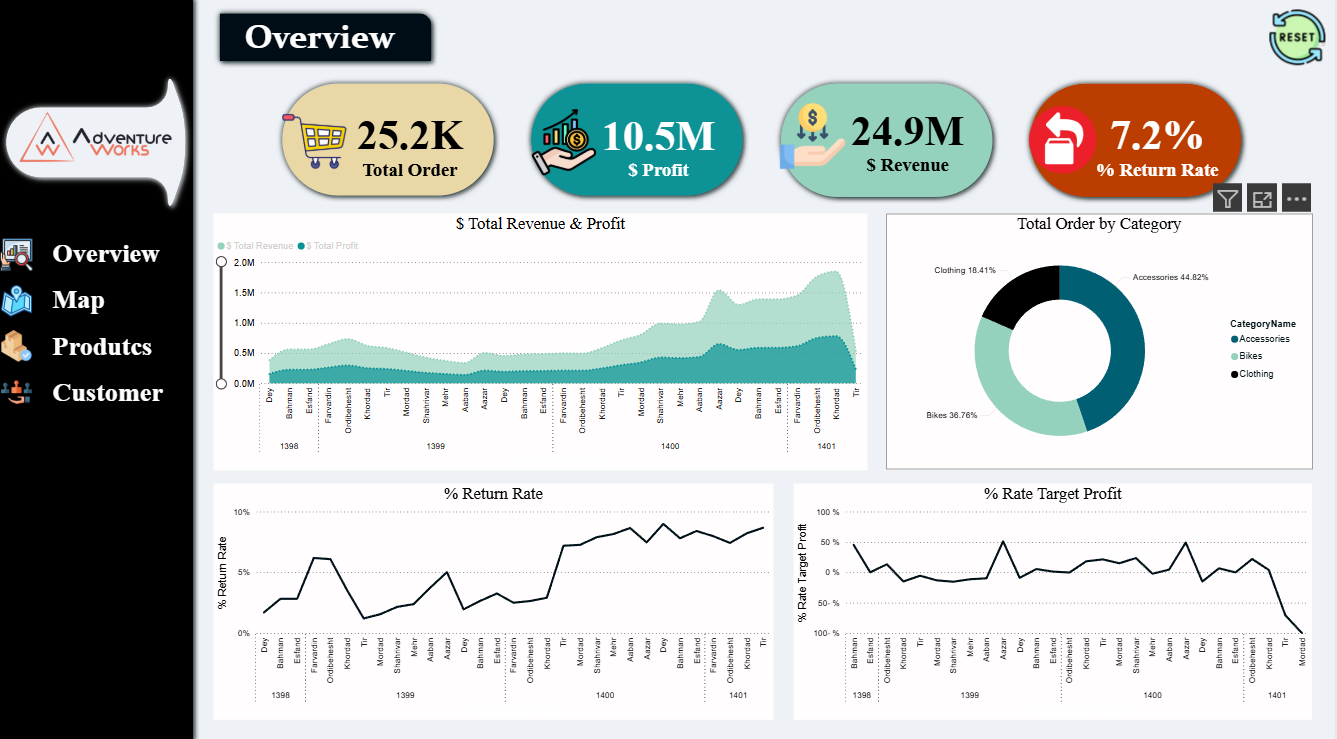

Layout of this report page (visuals, bound fields, positions):
{"tool":"powerbi","page":{"name":"Overview","canvas":[1920,1080],"ordinal":0},"visuals":[{"type":"shape","box":[0,0,297.5,1080],"z":0,"group":"g6"},{"type":"shape","box":[318,24,320,86],"z":0,"group":"g1"},{"type":"shape","box":[408,124,320,178],"z":0,"group":"g2"},{"type":"shape","box":[763.3,124,320,178],"z":0,"group":"g3"},{"type":"shape","box":[1118.7,124,320,180],"z":0,"group":"g5"},{"type":"shape","box":[1474,124,320,180],"z":0,"group":"g4"},{"type":"shape","box":[12,98,286,236],"z":750,"group":"g6"},{"type":"image","box":[24,116,252,184],"z":875,"group":"g6"},{"type":"textbox","box":[358,32,238,68],"z":1000,"group":"g1"},{"type":"card","fields":{"Values":["Table Measure.$ Total Revenue"]},"box":[1182.5,135,255,150],"z":1000,"group":"g5"},{"type":"card","fields":{"Values":["Table Measure.# Total Order"]},"box":[470,137.5,257.5,155],"z":1000,"group":"g2"},{"type":"card","fields":{"Values":["Table Measure.$ Total Profit"]},"box":[825,137.5,257.5,157.5],"z":1000,"group":"g3"},{"type":"card","fields":{"Values":["Table Measure.% Return Rate"]},"box":[1537.5,137.5,257.5,155],"z":1000,"group":"g4"},{"type":"textbox","box":[64,348,234,56],"z":1000,"group":"g6"},{"type":"group","id":"g1","title":"Page Name","box":[318,24,320,86],"z":2000},{"type":"image","box":[1117.5,155,112.5,107.5],"z":2000,"group":"g5"},{"type":"image","box":[1475,160,112.5,107.5],"z":2000,"group":"g4"},{"type":"image","box":[407.5,162.5,110,105],"z":2000,"group":"g2"},{"type":"image","box":[762.5,162.5,112.5,107.5],"z":2000,"group":"g3"},{"type":"group","id":"g2","title":"Total Order","box":[407.5,124,320.5,178],"z":3000},{"type":"textbox","box":[64,414,234,56],"z":3000,"group":"g6"},{"type":"group","id":"g3","title":"Profit","box":[762.5,124,320.8,178],"z":4000},{"type":"textbox","box":[64.7,480,233.3,56.7],"z":4000,"group":"g6"},{"type":"group","id":"g4","title":"Return Rate","box":[1117.5,124,677.5,180],"z":5000},{"type":"textbox","box":[64.7,546.7,233.3,55],"z":5000,"group":"g6"},{"type":"image","box":[0,413.9,73.3,56.7],"z":6000,"group":"g6"},{"type":"group","id":"g5","title":"Revenue","box":[1117.5,124,321.2,180],"z":7000,"group":"g4"},{"type":"lineChart","title":"$ Total Revenue & Profit","fields":{"Y":["Table Measure.$ Total Revenue","Table Measure.$ Total Profit"],"Category":["Date Lookup.Persian Date Hierarchy.PersianYear","Date Lookup.Persian Date Hierarchy.PersianMonthNameEn","Date Lookup.Persian Date Hierarchy.PersianDayNumberOfMonth"]},"box":[317.9,317.9,933.9,366.1],"z":7000},{"type":"image","box":[0,545,73.3,56.7],"z":7000,"group":"g6"},{"type":"image","box":[0,348.3,73.3,56.7],"z":8000,"group":"g6"},{"type":"lineChart","title":"% Return Rate","fields":{"Category":["Date Lookup.Persian Date Hierarchy.PersianYear","Date Lookup.Persian Date Hierarchy.PersianMonthNameEn","Date Lookup.Persian Date Hierarchy.PersianDayNumberOfMonth"],"Y":["Table Measure.% Return Rate"]},"box":[317.9,703.6,800,337.5],"z":8000},{"type":"donutChart","title":"Total Order by Category","fields":{"Y":["Table Measure.# Total Order"],"Category":["Product Categories Lookup.CategoryName"]},"box":[1278.6,317.9,608.9,366.1],"z":9000},{"type":"image","box":[0,479.4,73.3,56.7],"z":9000,"group":"g6"},{"type":"lineChart","title":"% Rate Target Profit","fields":{"Category":["Date Lookup.Persian Date Hierarchy.PersianYear","Date Lookup.Persian Date Hierarchy.PersianMonthNameEn","Date Lookup.Persian Date Hierarchy.PersianDayNumberOfMonth"],"Y":["Table Measure.% Rate Target Profit"]},"box":[1146.4,703.6,741.1,337.5],"z":10000},{"type":"actionButton","box":[1814,6,104,122],"z":10001},{"type":"group","id":"g6","title":"Navigate","box":[0,0,298,1080],"z":10002}]}

Visuals, with their boxes on the page's 1920x1080 design canvas (x1, y1, x2, y2). These are canvas units, not pixel positions in the 1337x739 screenshot, which may show the page scaled, cropped or inside an application window:
shape: box=[0, 0, 298, 1080]
shape: box=[318, 24, 638, 110]
shape: box=[408, 124, 728, 302]
shape: box=[763, 124, 1083, 302]
shape: box=[1119, 124, 1439, 304]
shape: box=[1474, 124, 1794, 304]
shape: box=[12, 98, 298, 334]
image: box=[24, 116, 276, 300]
textbox: box=[358, 32, 596, 100]
card - Table Measure.$ Total Revenue: box=[1182, 135, 1438, 285]
card - Table Measure.# Total Order: box=[470, 138, 728, 292]
card - Table Measure.$ Total Profit: box=[825, 138, 1082, 295]
card - Table Measure.% Return Rate: box=[1538, 138, 1795, 292]
textbox: box=[64, 348, 298, 404]
"Page Name" group: box=[318, 24, 638, 110]
image: box=[1118, 155, 1230, 262]
image: box=[1475, 160, 1588, 268]
image: box=[408, 162, 518, 268]
image: box=[762, 162, 875, 270]
"Total Order" group: box=[408, 124, 728, 302]
textbox: box=[64, 414, 298, 470]
"Profit" group: box=[762, 124, 1083, 302]
textbox: box=[65, 480, 298, 537]
"Return Rate" group: box=[1118, 124, 1795, 304]
textbox: box=[65, 547, 298, 602]
image: box=[0, 414, 73, 471]
"Revenue" group: box=[1118, 124, 1439, 304]
"$ Total Revenue & Profit" lineChart: box=[318, 318, 1252, 684]
image: box=[0, 545, 73, 602]
image: box=[0, 348, 73, 405]
"% Return Rate" lineChart: box=[318, 704, 1118, 1041]
"Total Order by Category" donutChart: box=[1279, 318, 1888, 684]
image: box=[0, 479, 73, 536]
"% Rate Target Profit" lineChart: box=[1146, 704, 1888, 1041]
actionButton: box=[1814, 6, 1918, 128]
"Navigate" group: box=[0, 0, 298, 1080]
